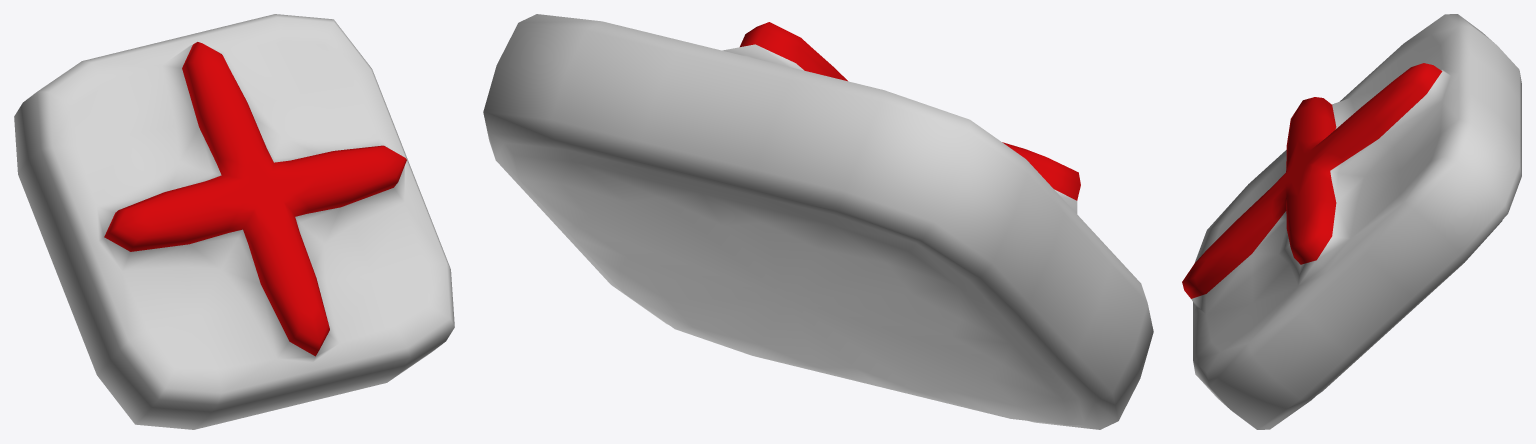
3 renders of one model, left to right at view 1: azimuth 30°, elevation 25°; view 2: azimuth 150°, elevation 25°; view 3: azimuth 270°, elevation 25°, orthographic. The views are drawn at different scales.
Parts seen in each view (by area): view 1: Plane; view 2: Plane; view 3: Plane.
Part boxes in pixels (<box>): Plane: <box>14,14,454,429</box>; Plane: <box>483,14,1153,429</box>; Plane: <box>1182,14,1521,429</box>.
Size of the model in its own units: 223 by 191 by 191.
